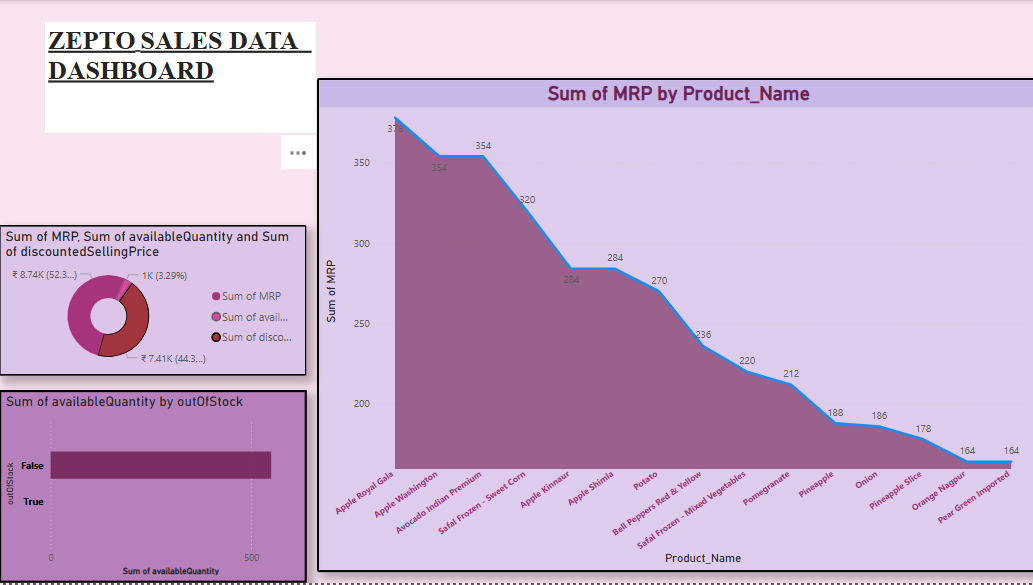

The dashboard page shown, as its layout file describes it:
{"tool":"powerbi","page":{"name":"Page 1","canvas":[1280,720],"ordinal":0},"visuals":[{"type":"lineChart","fields":{"Category":["ZeptoSales.Product_Name"],"Y":["Sum(ZeptoSales.MRP)"]},"box":[392,96,888,610],"z":0},{"type":"textbox","box":[56,26,336,138],"z":1},{"type":"donutChart","fields":{"Y":["Sum(ZeptoSales.MRP)","Sum(ZeptoSales.availableQuantity)","Sum(ZeptoSales.discountedSellingPrice)"]},"box":[0,277,379,186],"z":2},{"type":"barChart","fields":{"Category":["ZeptoSales.outOfStock"],"Y":["Sum(ZeptoSales.availableQuantity)"]},"box":[0,482,380,238],"z":3}]}

Visuals, with their boxes in screenshot pixels (x1, y1, x2, y2), scaled from the page's 1280x720 canvas onto the 1033x585 screenshot:
lineChart - ZeptoSales.Product_Name x Sum(ZeptoSales.MRP): <bbox>316, 78, 1032, 574</bbox>
textbox: <bbox>45, 21, 316, 133</bbox>
donutChart - Sum(ZeptoSales.MRP) x Sum(ZeptoSales.availableQuantity): <bbox>0, 225, 306, 376</bbox>
barChart - ZeptoSales.outOfStock x Sum(ZeptoSales.availableQuantity): <bbox>0, 392, 307, 584</bbox>
